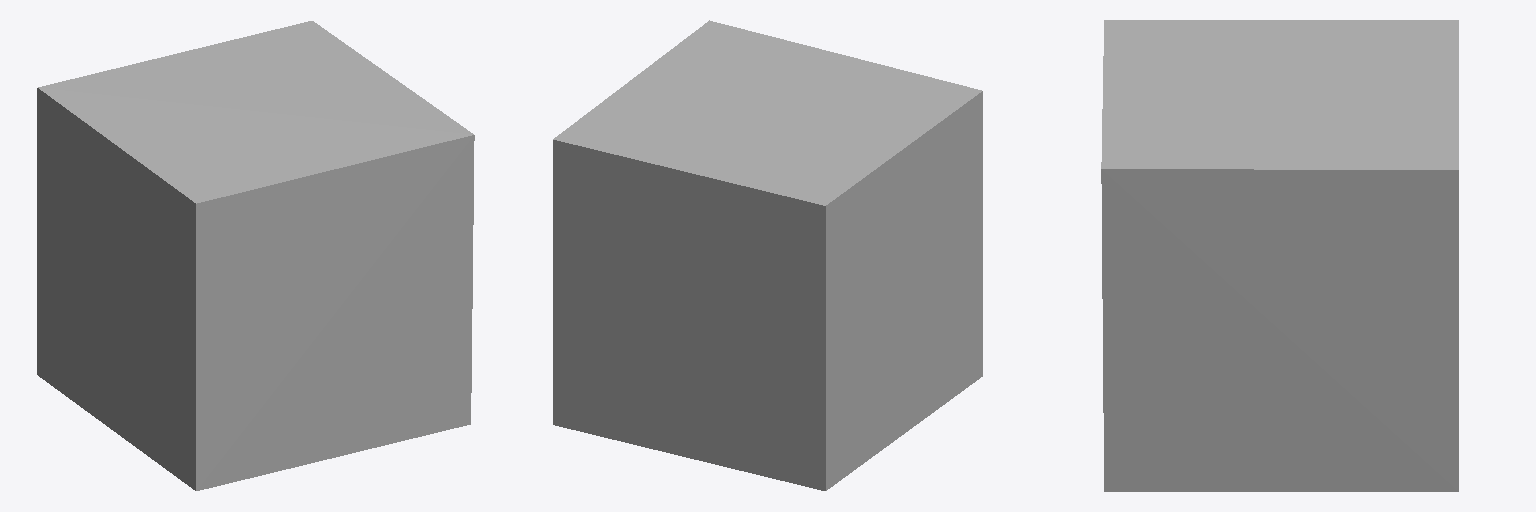
URDF robot description (root):
<robot name="root">
  <link name="link_ycb~cubei14_convex_piece_0">
    <inertial>
      <origin xyz="0 0 0" rpy="0 0 0"/>
      <mass value="6.40E-02"/>
      <inertia ixx="6.81E-06" ixy="1.64E-08" ixz="-1.64E-08" iyy="6.81E-06" iyz="1.64E-08" izz="6.81E-06"/>
    </inertial>
    <visual>
      <origin xyz="0 0 0" rpy="0 0 0"/>
      <geometry>
        <mesh filename="ycb~cubei14_convex_piece_0.obj" scale="1.0000E+00 1.0000E+00 1.0000E+00"/>
      </geometry>
      <material name="">
        <color rgba="7.50E-01 7.50E-01 7.50E-01 1"/>
      </material>
    </visual>
    <collision>
      <origin xyz="0 0 0" rpy="0 0 0"/>
      <geometry>
        <mesh filename="ycb~cubei14_convex_piece_0.obj" scale="1.0000E+00 1.0000E+00 1.0000E+00"/>
      </geometry>
    </collision>
  </link>
</robot>

--- Render facts (derived) ---
The picture shows the robot from 3 angles, left to right: view 1: azimuth 30°, elevation 25°; view 2: azimuth 150°, elevation 25°; view 3: azimuth 270°, elevation 25°; orthographic projection.
Robot: root — 1 links, 0 joints (none); root link link_ycb~cubei14_convex_piece_0; default pose: all joints at 0.
Links seen in each view (by area): view 1: link_ycb~cubei14_convex_piece_0; view 2: link_ycb~cubei14_convex_piece_0; view 3: link_ycb~cubei14_convex_piece_0.
Boxes of the visible links, <box> form: link_ycb~cubei14_convex_piece_0: <box>37,21,474,490</box>; link_ycb~cubei14_convex_piece_0: <box>553,20,982,490</box>; link_ycb~cubei14_convex_piece_0: <box>1101,20,1458,491</box>.
Size in the robot's own frame: 0.0254 by 0.0254 by 0.0254 metres.
1 mesh visuals loaded from 1 distinct referenced files (1 OBJ).